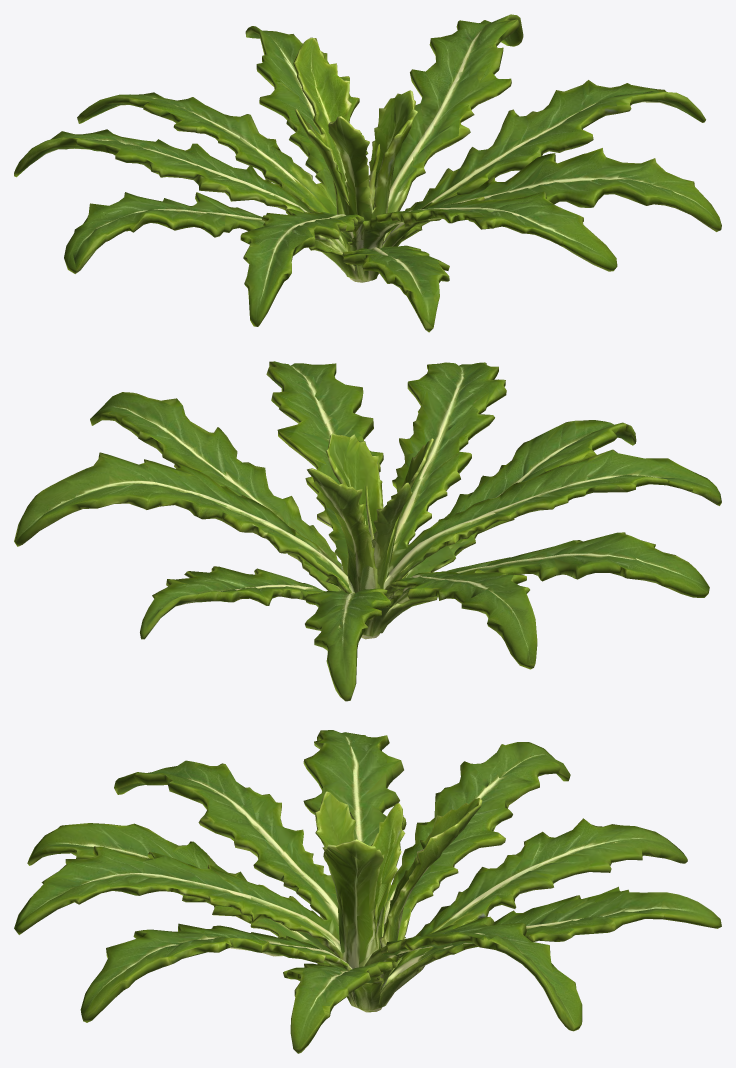
Rendered from season_sowthistle_rosette.glb.
3 views of the same model, one above another, from view 1: azimuth 30°, elevation 25°; view 2: azimuth 150°, elevation 25°; view 3: azimuth 270°, elevation 25° (orthographic). The views are drawn at different scales.
Visible parts, largest first — view 1: Mesh_0; view 2: Mesh_0; view 3: Mesh_0.
Part boxes in pixels (<box>): Mesh_0: <box>14,14,721,332</box>; Mesh_0: <box>14,361,721,701</box>; Mesh_0: <box>14,730,721,1053</box>.
Size of the model in its own units: 1 by 0.309 by 0.9482.
1 material, 1 textured.
